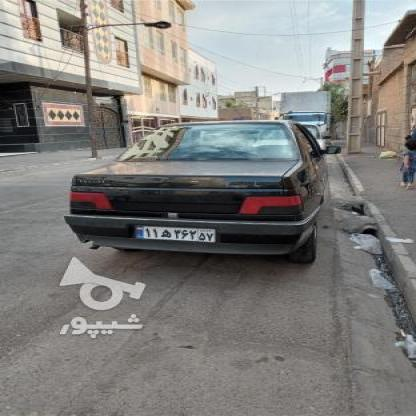licence: (132, 225, 213, 241)
